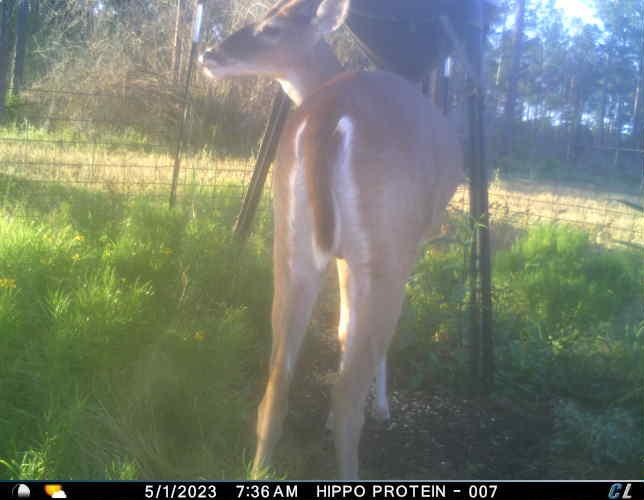Deer: (195, 0, 464, 481)
